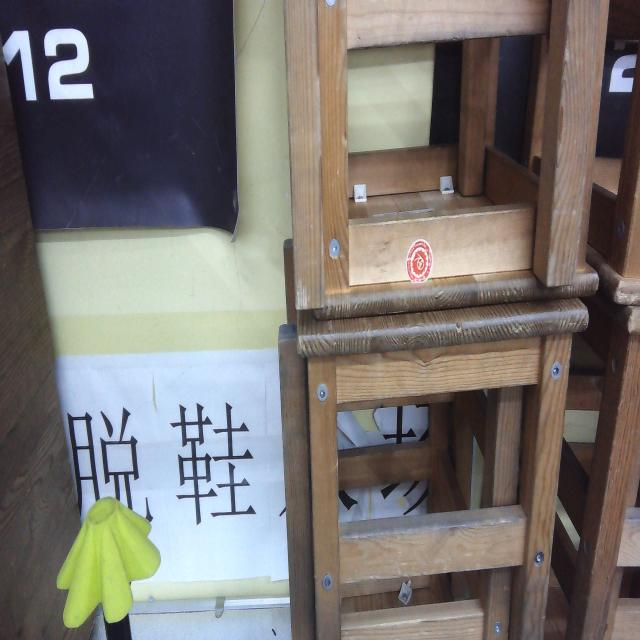Yellow-Stake-Head: (56, 494, 161, 628)
